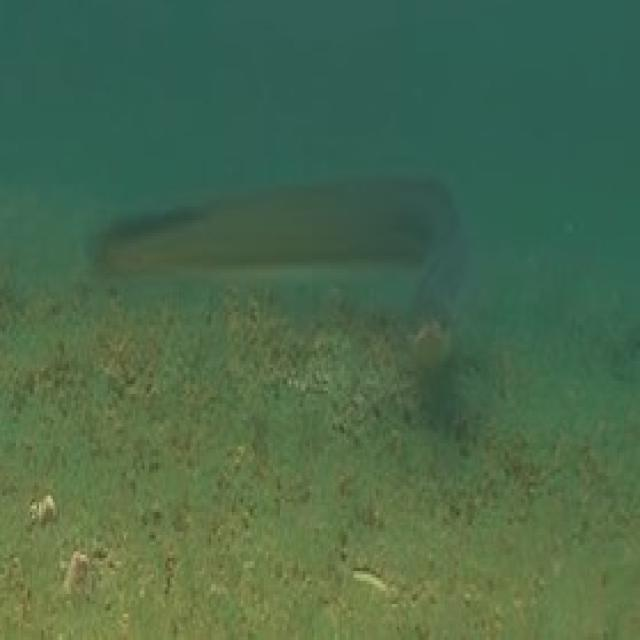Freshwater-Eel: (35, 123, 482, 352)
